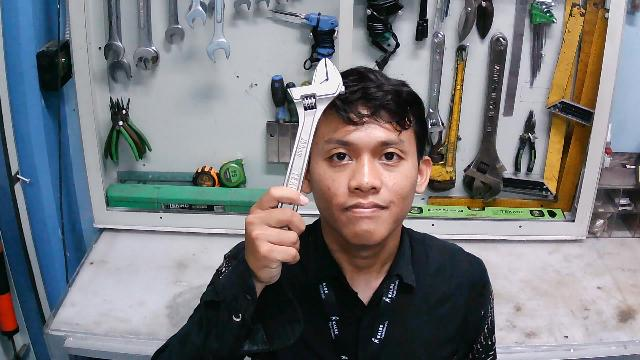kunci_inggris: (274, 56, 346, 251)
